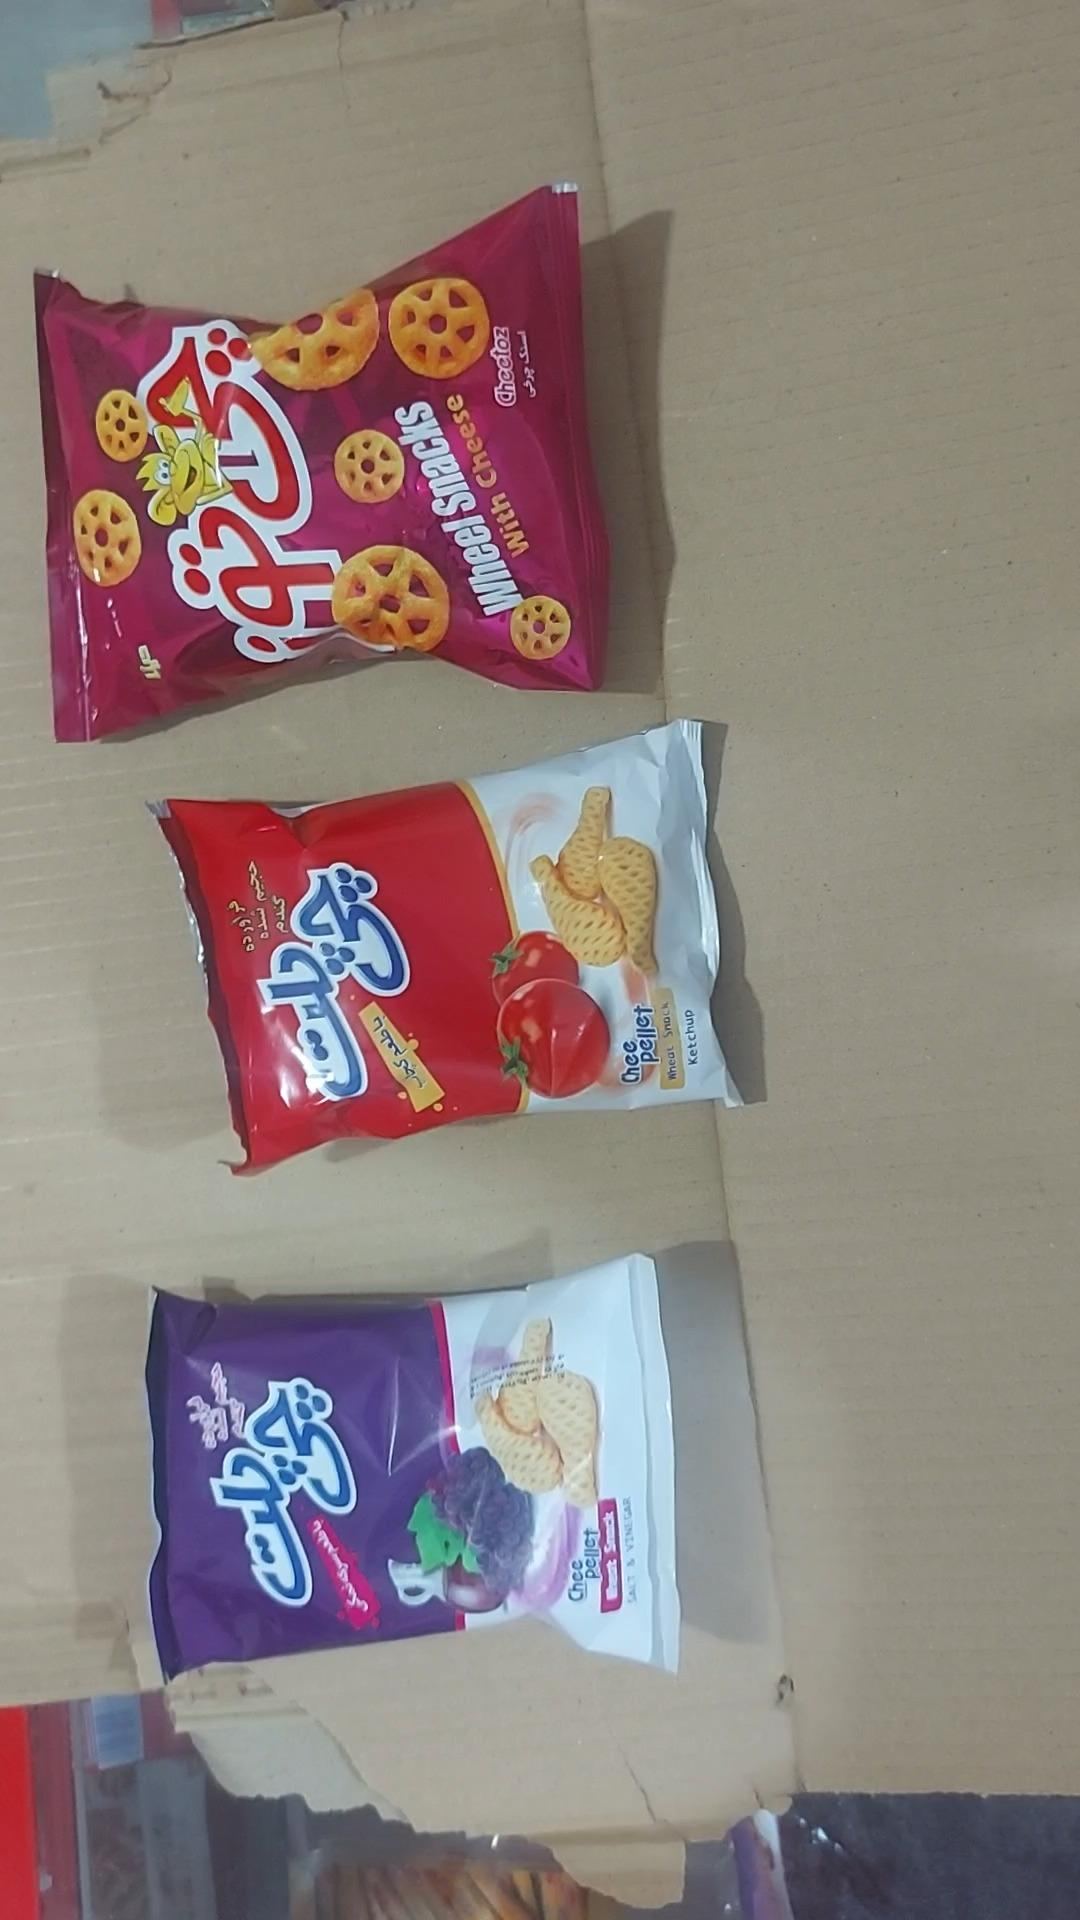Chee pellet ketchup: (146, 721, 742, 1180)
Chee pellet vinegar: (142, 1254, 680, 1685)
Cheetoz wheelsnack: (33, 183, 611, 745)
